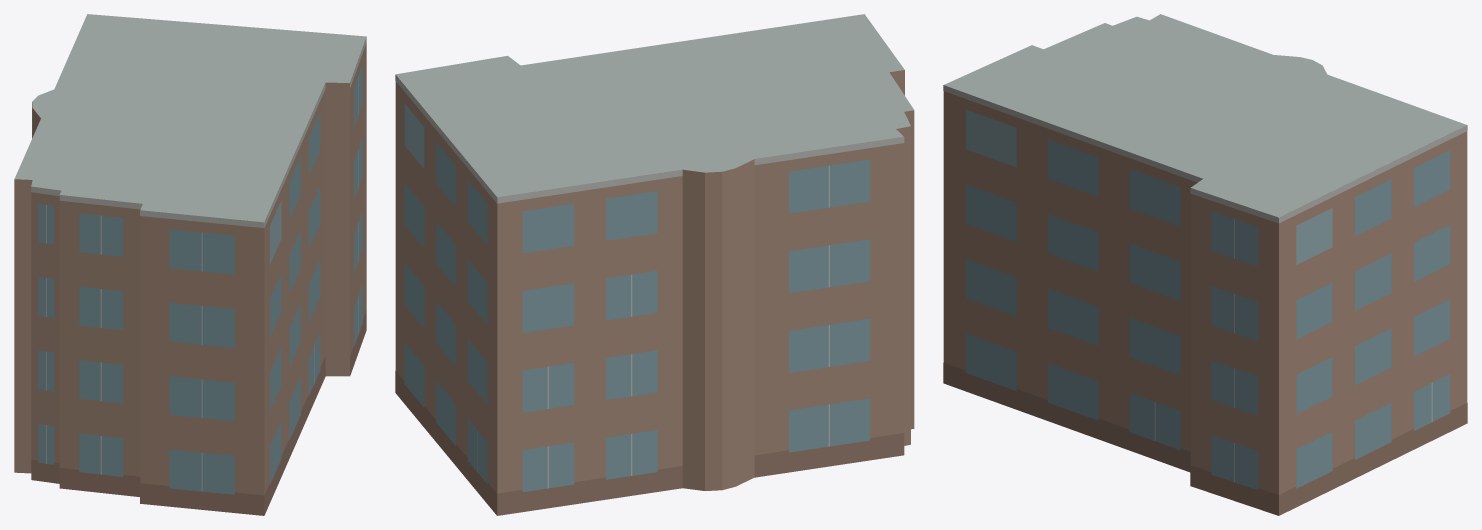
The model's file is survey-upis-32981112.glb.
3 views of the same model, side by side, from view 1: azimuth 30°, elevation 25°; view 2: azimuth 150°, elevation 25°; view 3: azimuth 270°, elevation 25° (orthographic). The views are drawn at different scales.
Parts seen in each view (by area): view 1: survey-upis-32981112.tmp; view 2: survey-upis-32981112.tmp; view 3: survey-upis-32981112.tmp.
Part boxes in pixels (x1,y1,x2,y2): survey-upis-32981112.tmp: (14, 14, 366, 515); survey-upis-32981112.tmp: (395, 14, 914, 515); survey-upis-32981112.tmp: (943, 14, 1467, 515).
Size of the model in its own units: 18.16 by 12.4 by 19.75.
